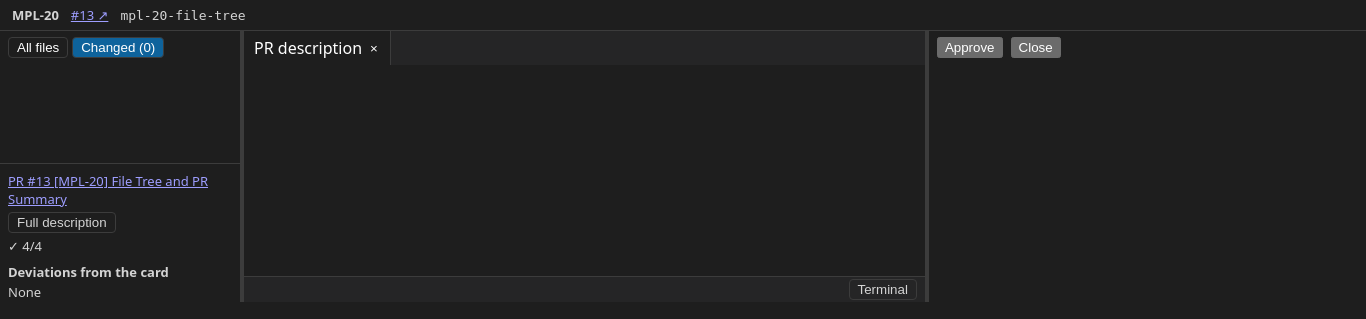
Test: CardTab › a failed Approve shows its error until the next Approve
Click the button "Approve" at (970, 48), box [937, 37, 1003, 58]
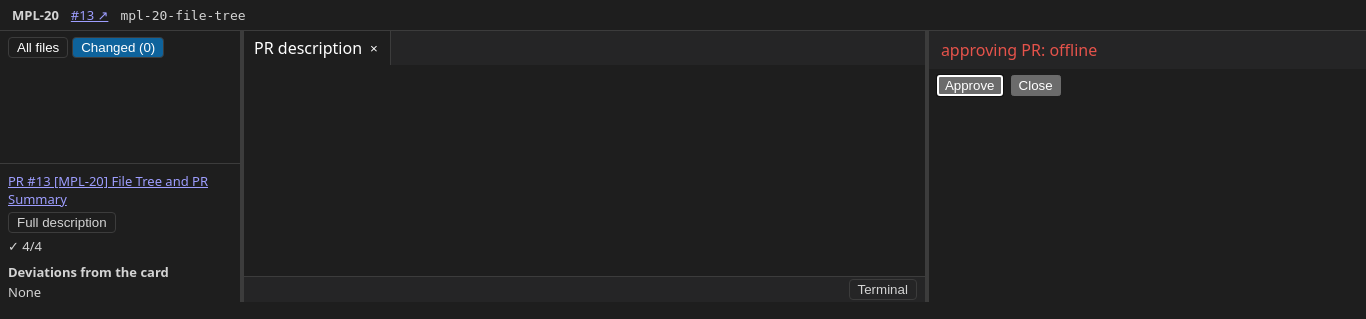
Expected: the message reads "approving PR: offline", [941, 39, 1097, 61]
Click the button "Approve" at (970, 86), box [937, 75, 1003, 96]
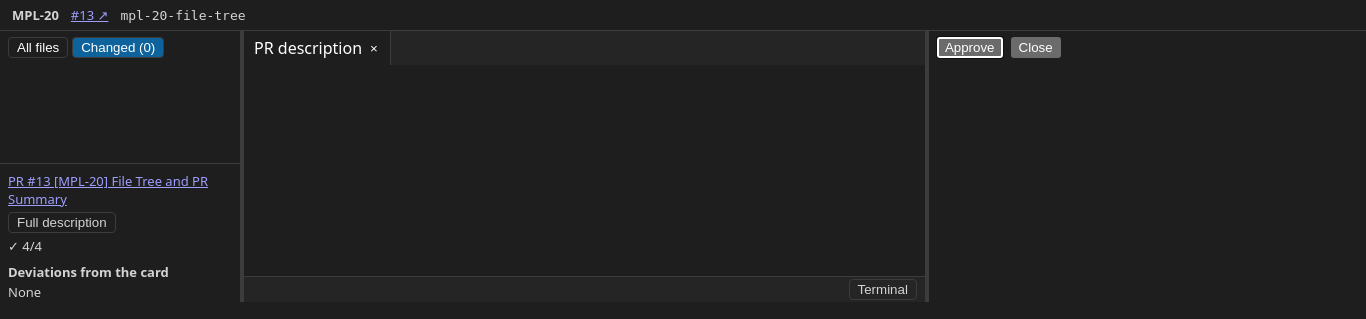
Expected: the message "approving PR: offline" is gone
